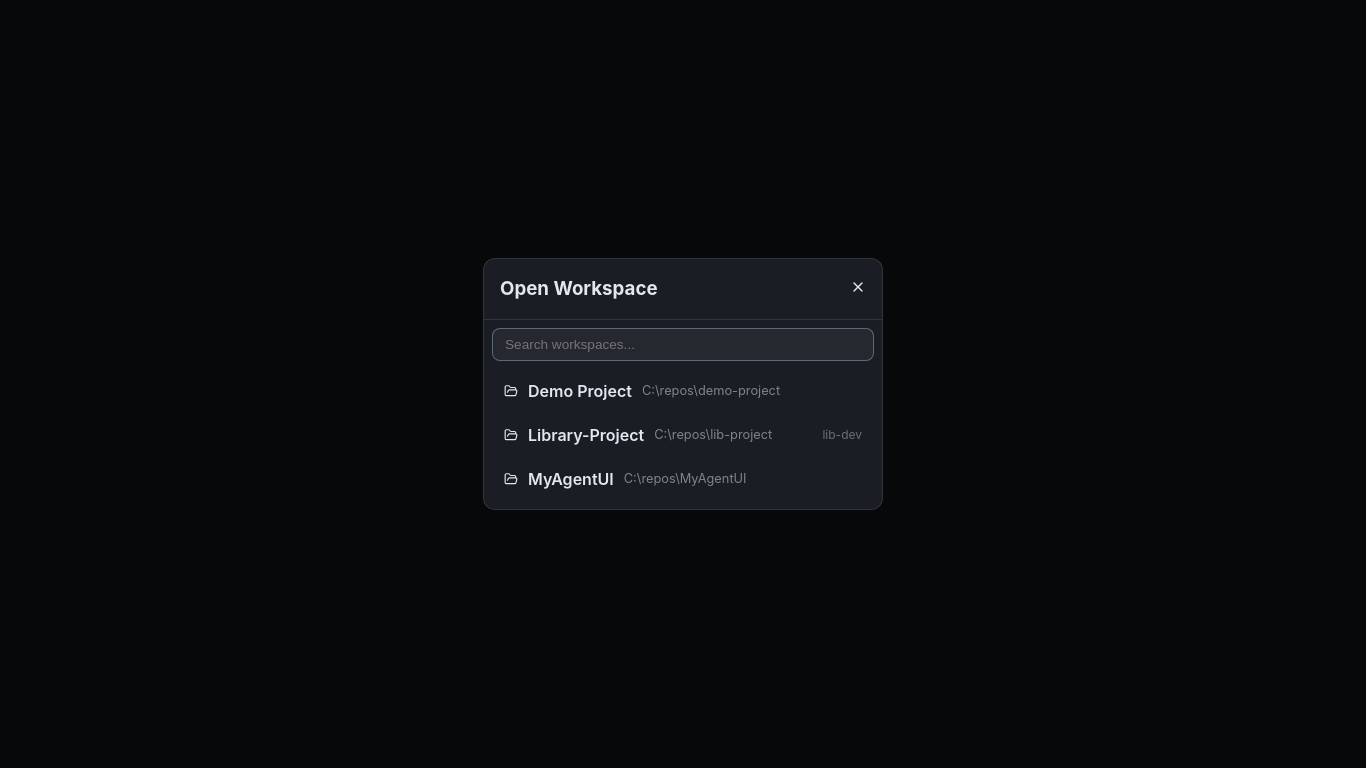
Test: WorkspacePickerModal › clears search when clear button clicked
Type "demo" into the field with placeholder "Search workspaces..." at (683, 344), box x1=492 y1=328 x2=874 y2=361
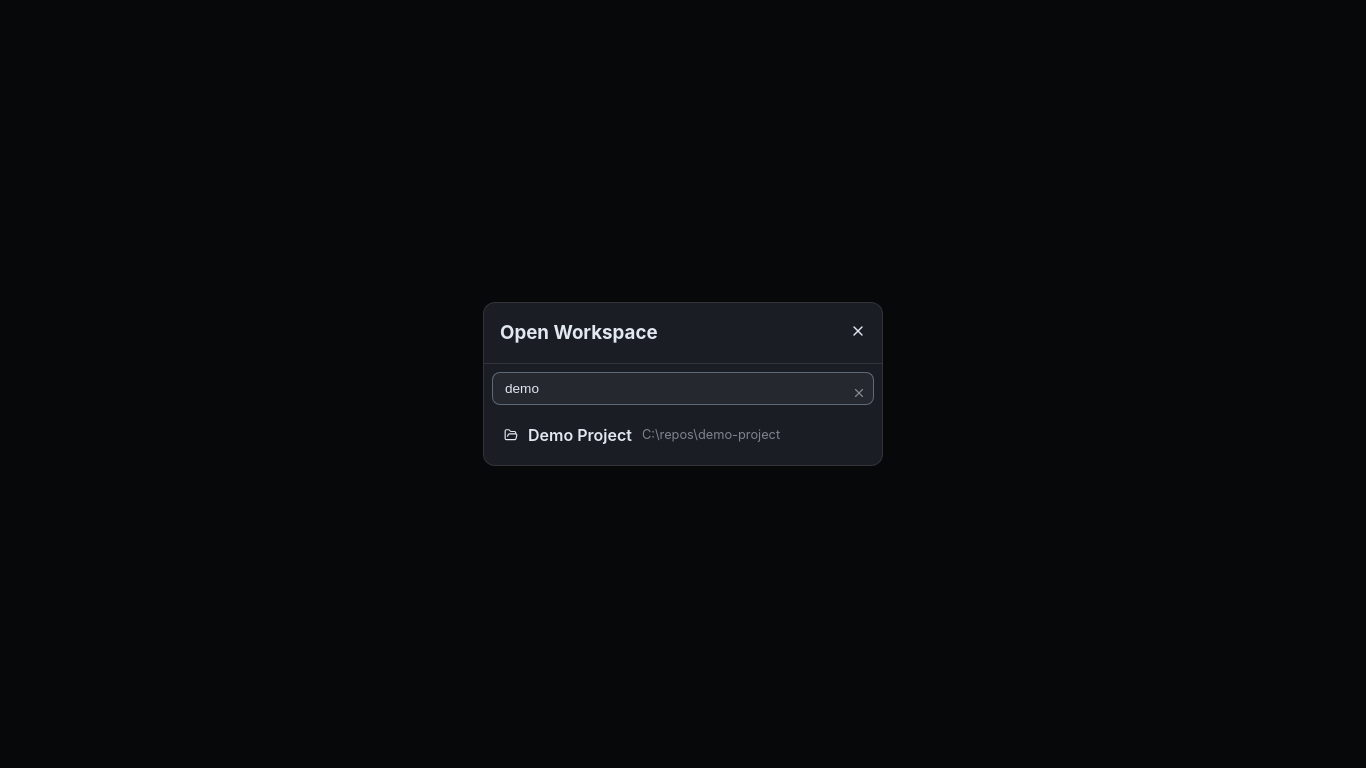
Expected: the text "Library-Project" is gone
Click the button with class "search-clear" at (859, 392), box x1=850 y1=384 x2=868 y2=402
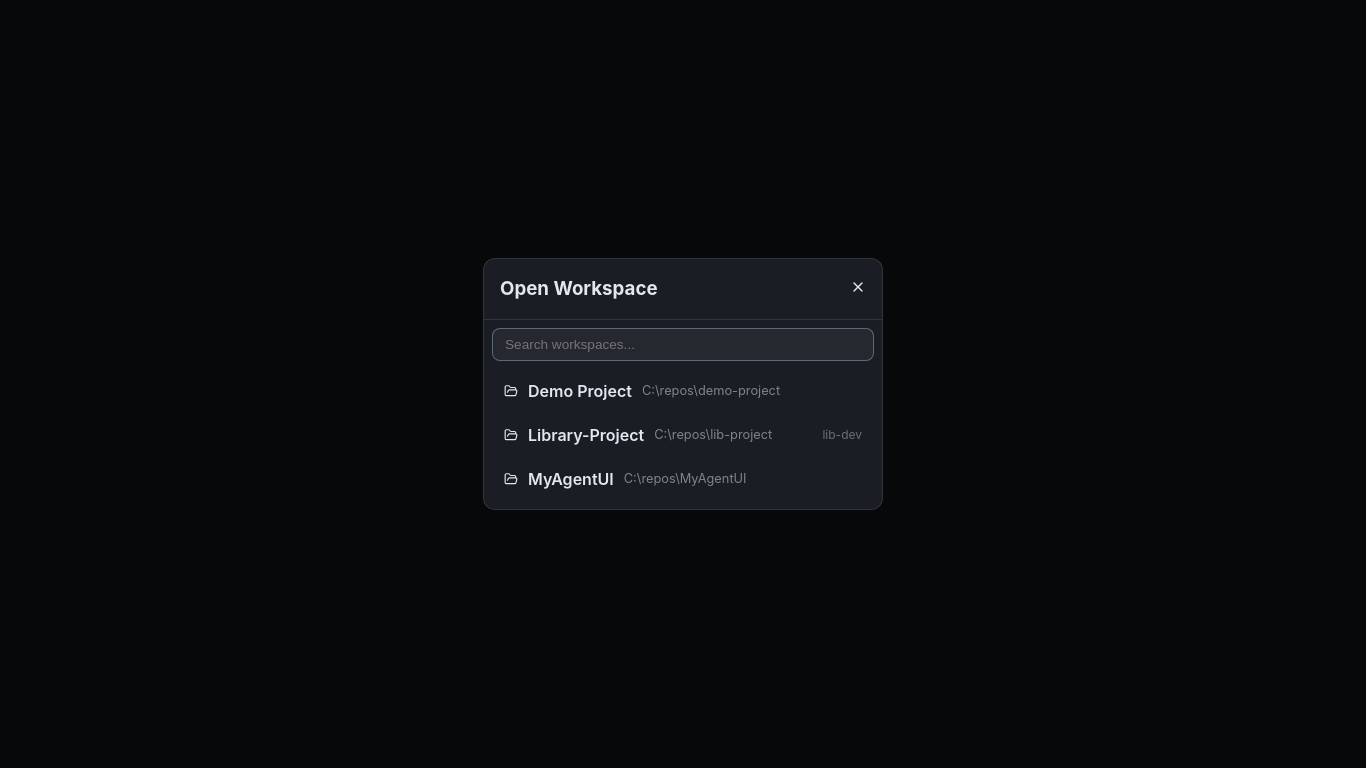
Expected: the text "Library-Project" is shown, x1=528 y1=423 x2=644 y2=447
